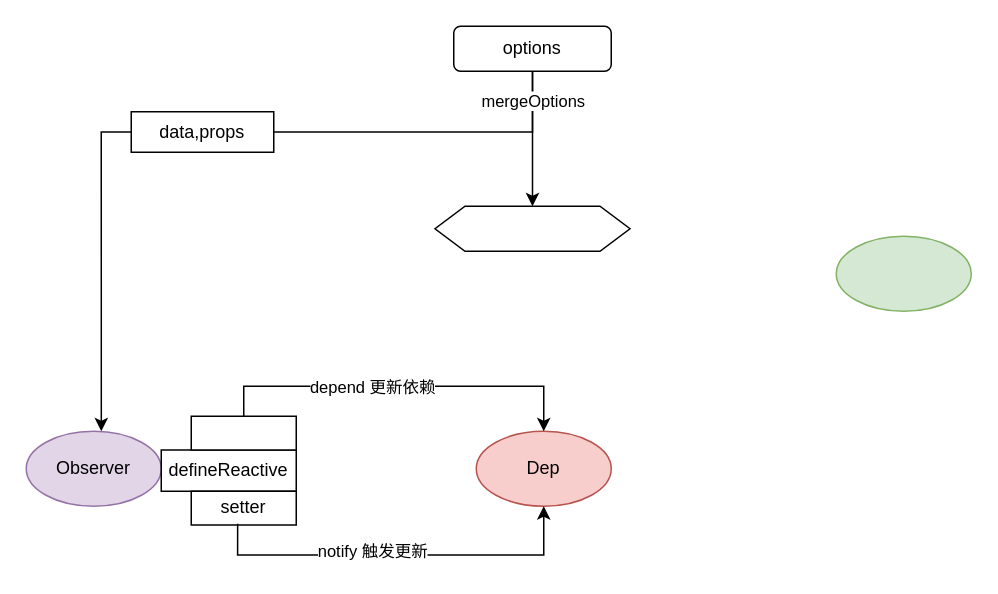
Some shapes in this 998 by 594 pixel diagram are drawn without their labels. Each missing label, with the centre of its shape:
"getter" goes at point (243, 432).
"render" goes at point (532, 228).
"Watcher" goes at point (903, 273).
